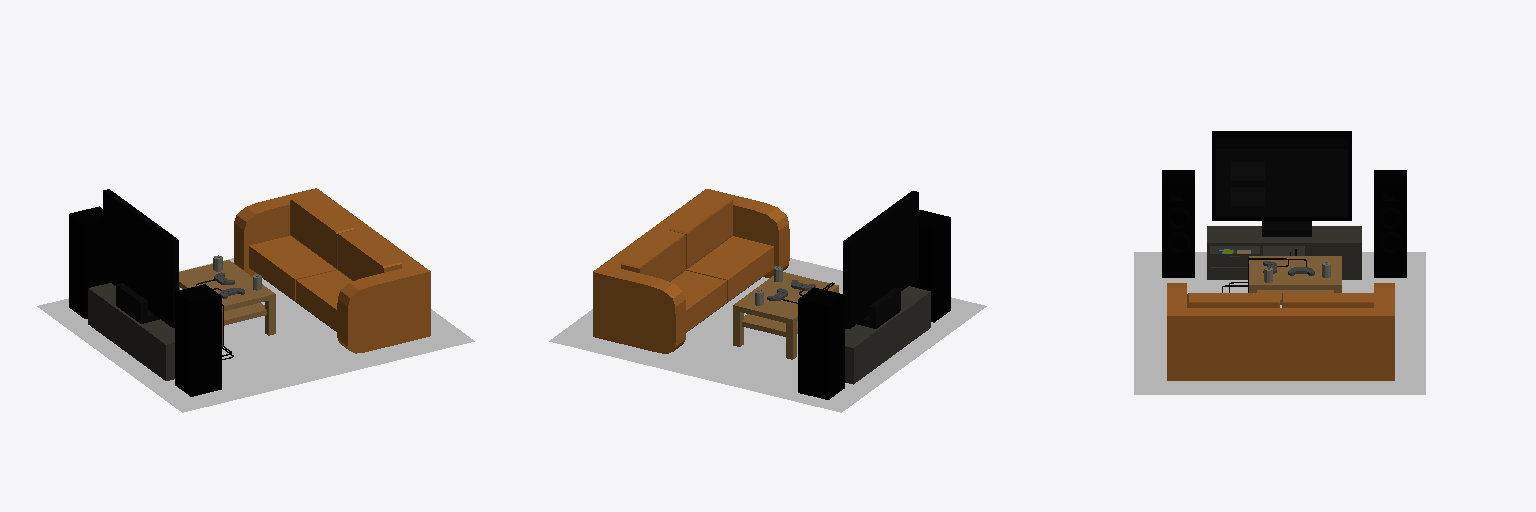
The model's file is LivingRoom.obj.
3 views of the same model, side by side, from view 1: azimuth 30°, elevation 25°; view 2: azimuth 150°, elevation 25°; view 3: azimuth 270°, elevation 25° (orthographic).
Parts seen in each view (by area): view 1: Plane_Plane.001, Cube.001_Cube.002, Cube.008_Cube.019, Cube.011_Cube.025, Cube.002_Cube.003, Cube.024_Cube.040, Cube.009_Cube.024, Cube.006_Cube.016, Cube_Cube.001, Cube.012_Cube.027, Cube.007_Cube.017; view 2: Plane_Plane.001, Cube.001_Cube.002, Cube.008_Cube.019, Cube.011_Cube.025, Cube.002_Cube.003, Cube.024_Cube.040, Cube.009_Cube.024, Cube.006_Cube.016, Cube_Cube.001, Cube.012_Cube.027, Cube.004_Cube.015, Cube.007_Cube.017; view 3: Plane_Plane.001, Cube_Cube.001, Cube.011_Cube.025, Cube.008_Cube.019, Cube.001_Cube.002, Cube.009_Cube.024, Cube.024_Cube.040, Cube.006_Cube.016, Plane.003_Plane.004, Cube.012_Cube.027, Cube.018_Cube.035, Plane.001_Plane (+1 smaller).
Part boxes in pixels (x1,y1,x2,y2): Plane_Plane.001: (37,258,474,412); Cube.001_Cube.002: (234,188,430,353); Cube.008_Cube.019: (69,206,221,396); Cube.011_Cube.025: (103,189,178,327); Cube.002_Cube.003: (249,236,352,331); Cube.024_Cube.040: (290,195,401,280); Cube.009_Cube.024: (88,283,174,380); Cube.006_Cube.016: (179,260,275,310); Cube_Cube.001: (315,196,419,267); Cube.012_Cube.027: (116,283,159,323); Cube.007_Cube.017: (182,289,266,325); Plane_Plane.001: (549,258,986,412); Cube.001_Cube.002: (593,189,789,353); Cube.008_Cube.019: (798,210,950,399); Cube.011_Cube.025: (843,191,918,328); Cube.002_Cube.003: (671,236,773,332); Cube.024_Cube.040: (621,195,732,281); Cube.009_Cube.024: (845,286,930,384); Cube.006_Cube.016: (733,272,838,322); Cube_Cube.001: (603,196,707,268); Cube.012_Cube.027: (857,288,900,328); Cube.004_Cube.015: (733,290,838,359); Cube.007_Cube.017: (742,314,797,336); Plane_Plane.001: (1134,252,1425,394); Cube_Cube.001: (1187,308,1373,380); Cube.011_Cube.025: (1212,131,1351,220); Cube.008_Cube.019: (1162,170,1406,277); Cube.001_Cube.002: (1167,283,1394,380); Cube.009_Cube.024: (1207,226,1361,279); Cube.024_Cube.040: (1187,293,1373,307); Cube.006_Cube.016: (1249,256,1341,289); Plane.003_Plane.004: (1216,138,1347,148); Cube.012_Cube.027: (1262,221,1311,236); Cube.018_Cube.035: (1210,246,1259,262); Plane.001_Plane: (1231,162,1264,180).
Size of the model in its own units: 5.3 by 2.35 by 4.57.